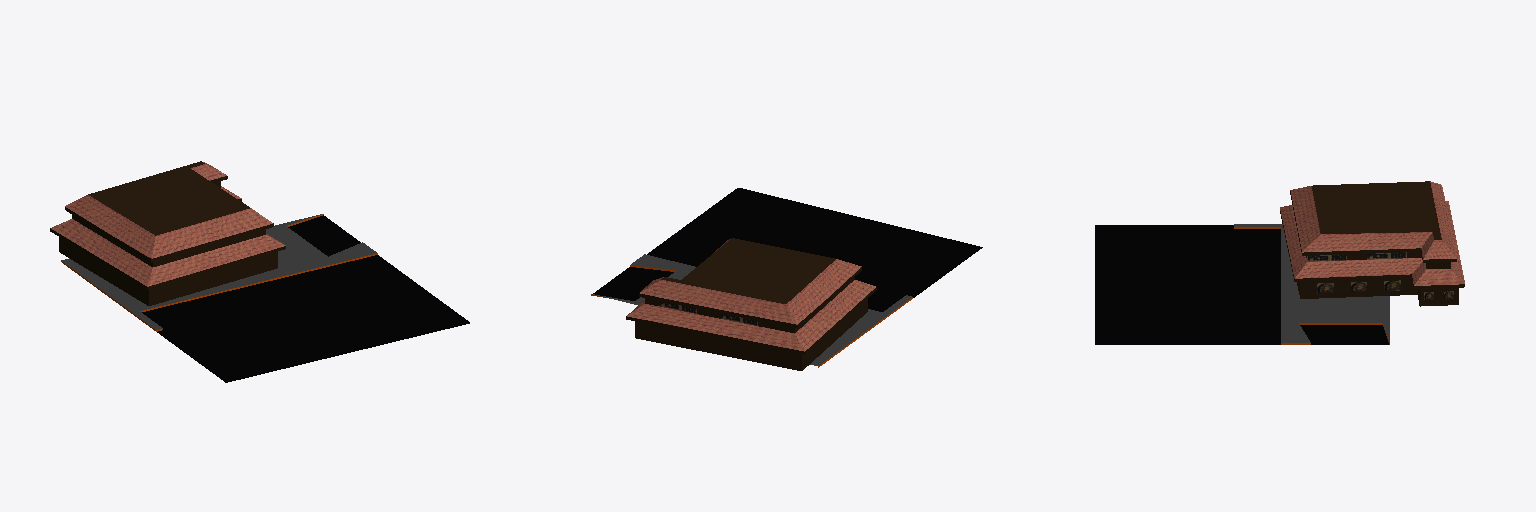
3 renders of one model, left to right at view 1: azimuth 30°, elevation 25°; view 2: azimuth 150°, elevation 25°; view 3: azimuth 270°, elevation 25°, orthographic.
Visible parts, largest first — view 1: 09_phut_n_Grid.009; view 2: 09_phut_n_Grid.009; view 3: 09_phut_n_Grid.009.
Part boxes in pixels (x1,y1,x2,y2): 09_phut_n_Grid.009: (50,161,469,382); 09_phut_n_Grid.009: (591,188,982,370); 09_phut_n_Grid.009: (1095,181,1464,344).
Bounding box in the file's own units: 16 × 3.64 × 20.96.
Materials: 6 (1 with a texture image).